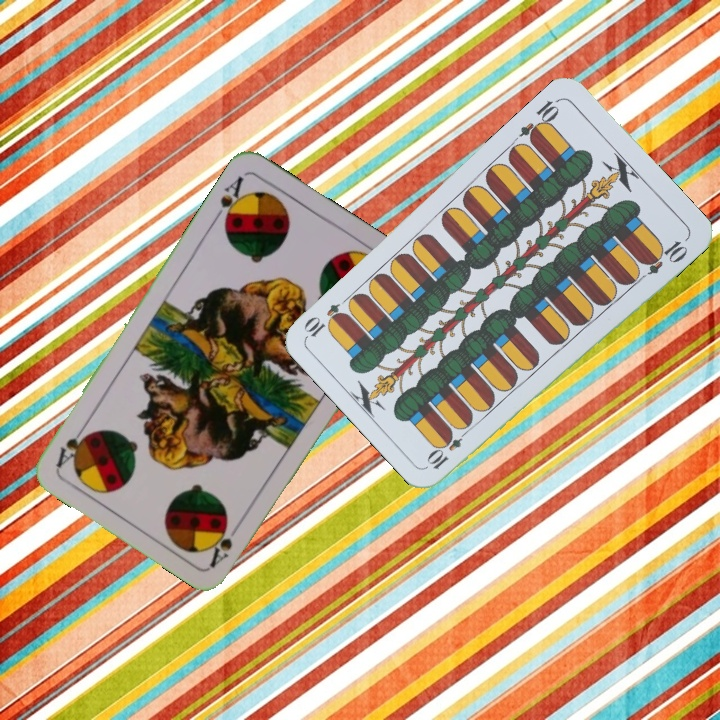E10: (515, 94, 563, 146), (424, 423, 473, 472)
SA: (209, 171, 250, 230), (205, 518, 245, 570)
